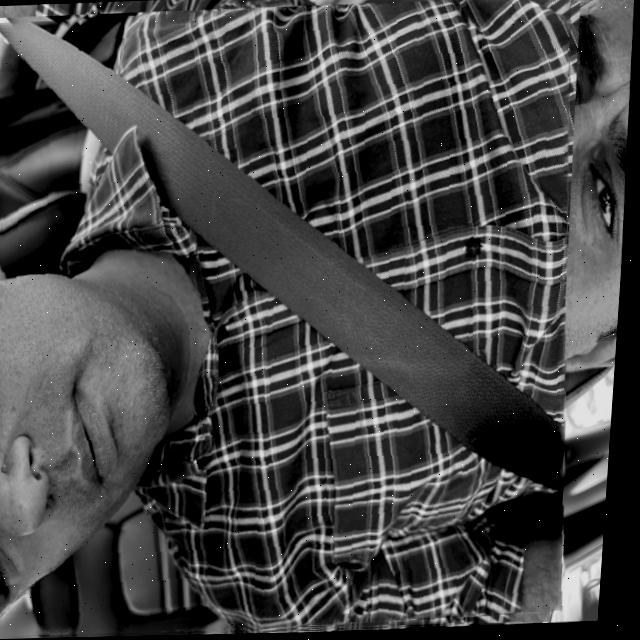seatbelt: (0, 0, 597, 640)
